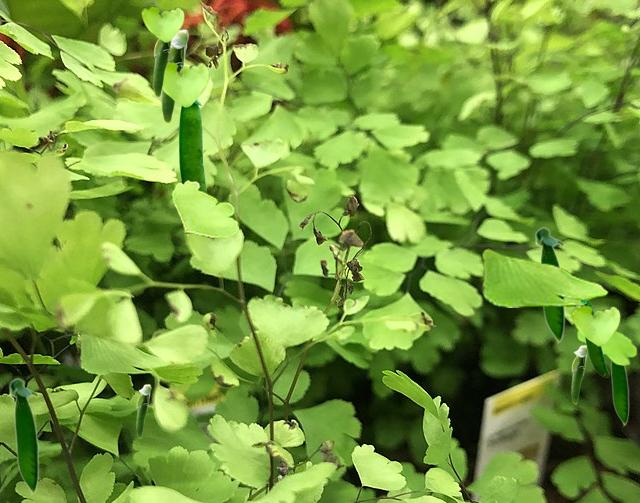pea: (8, 377, 38, 495), (534, 226, 564, 344), (179, 99, 207, 192), (161, 29, 188, 122), (583, 301, 608, 376), (610, 361, 628, 426), (153, 39, 172, 96), (571, 345, 587, 403), (136, 384, 150, 437)
